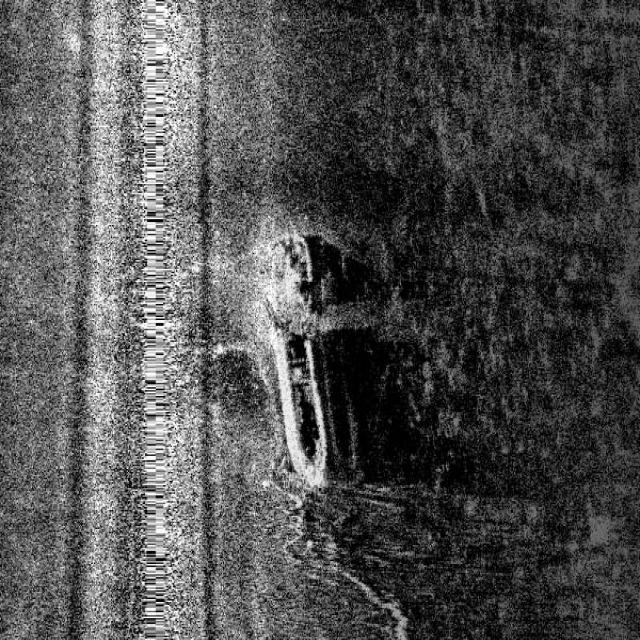ship: (259, 228, 338, 489)
